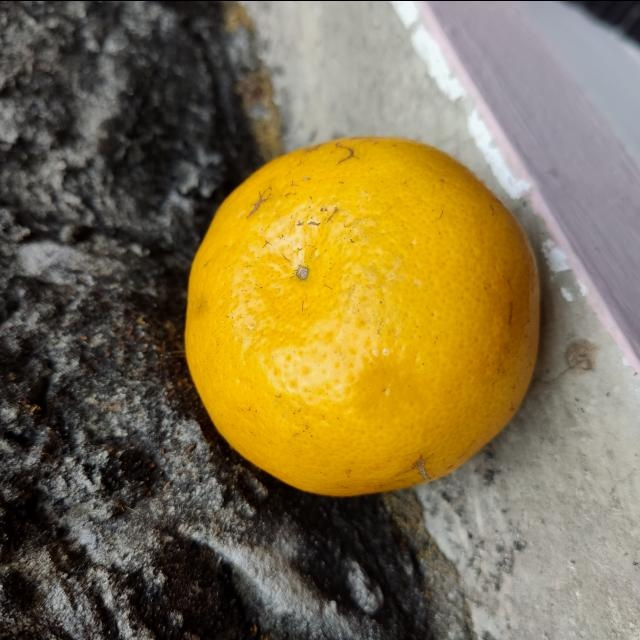agrume: (182, 131, 546, 498)
